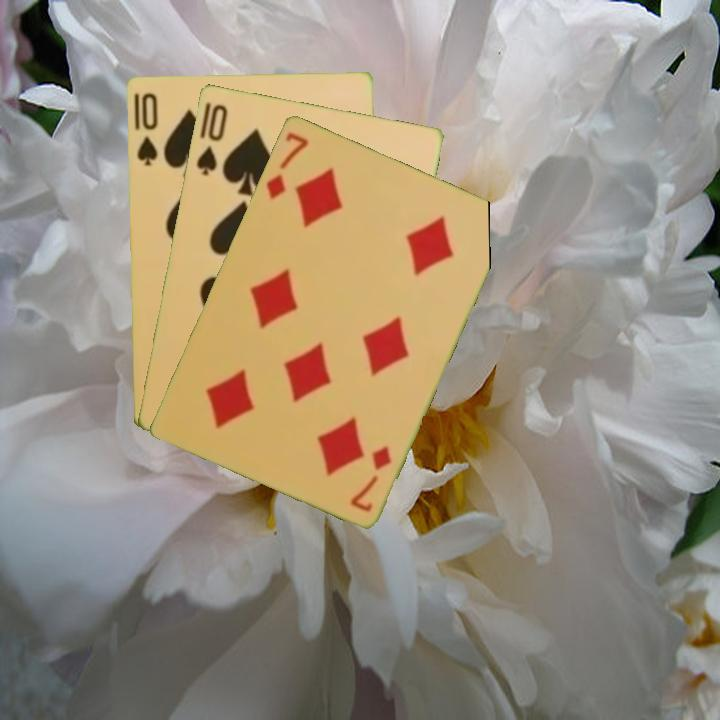10s: (192, 100, 230, 178), (133, 89, 160, 168)
7d: (262, 127, 311, 202), (346, 441, 394, 515)
